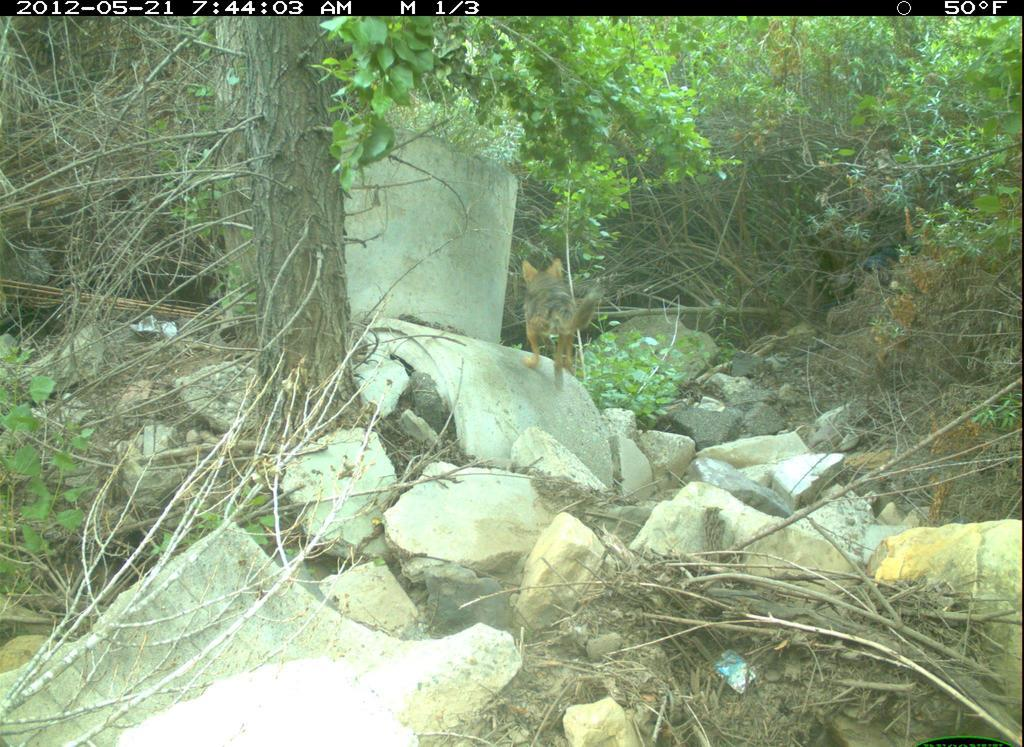coyote: (515, 248, 607, 401)
